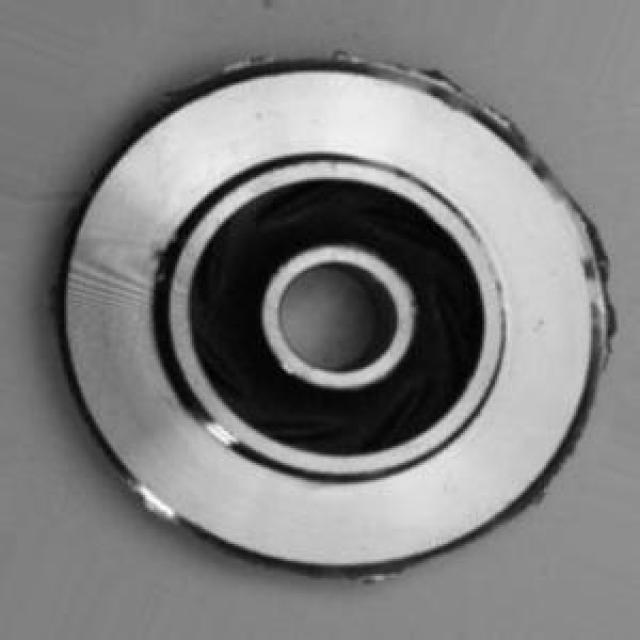Defect: (400, 60, 485, 105)
